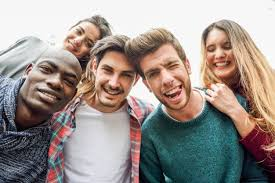person: (122, 28, 223, 152), (2, 34, 81, 180), (65, 33, 149, 168), (195, 15, 271, 148)
